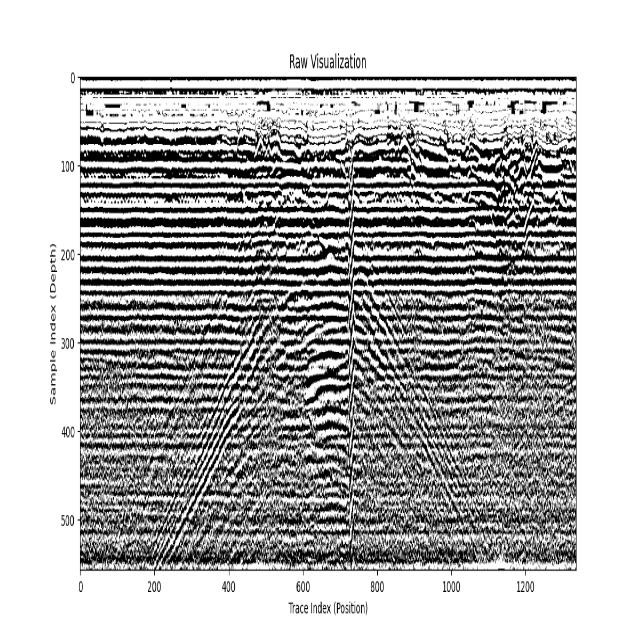anomaly: (106, 135, 509, 568)
